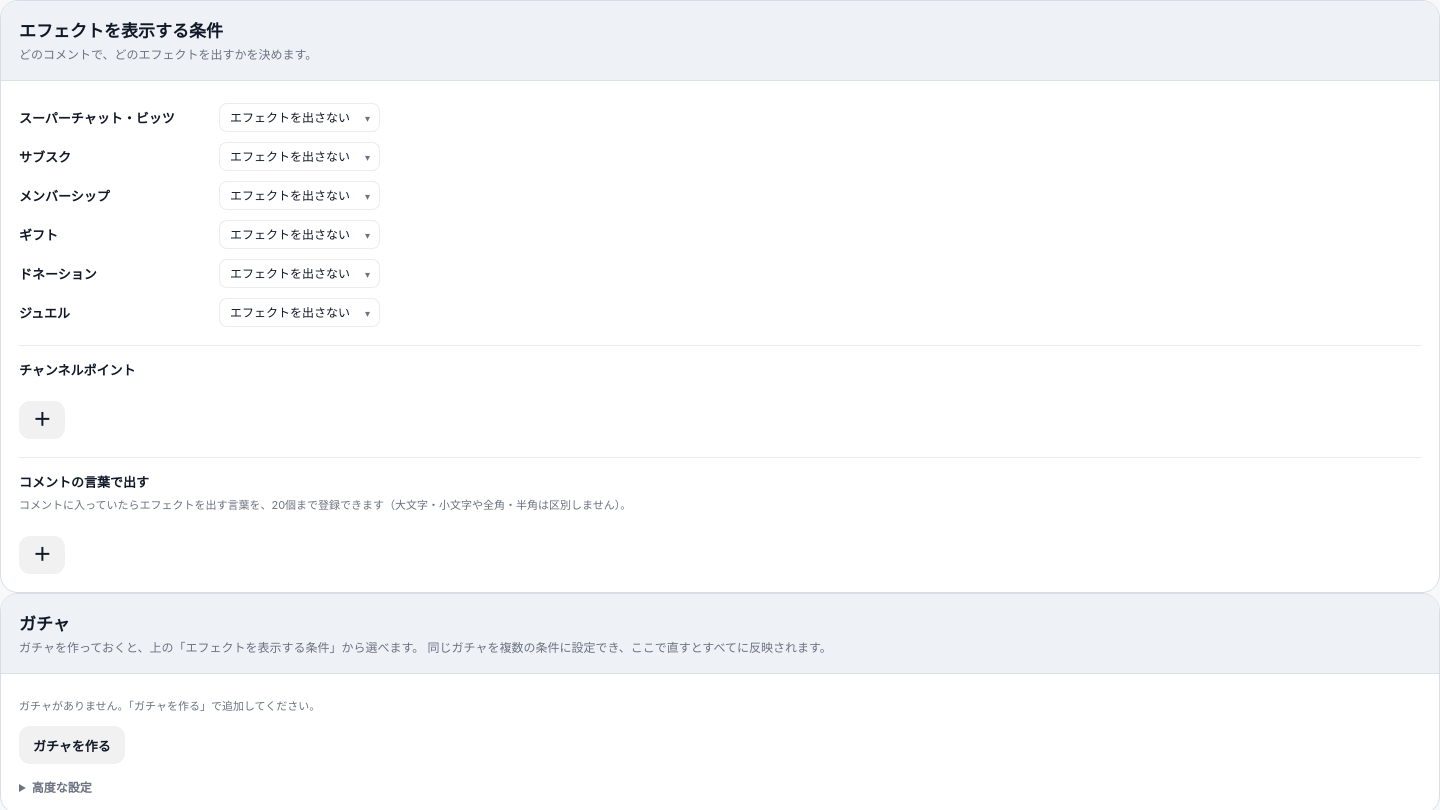
Scenario: GachaLibraryCard（063d） › ⚠ キーワード条件も列挙される（イベント条件だけを見ていない）
Click the button "ガチャを作る" at (72, 745), box top-left (19, 726), bottom-right (125, 764)
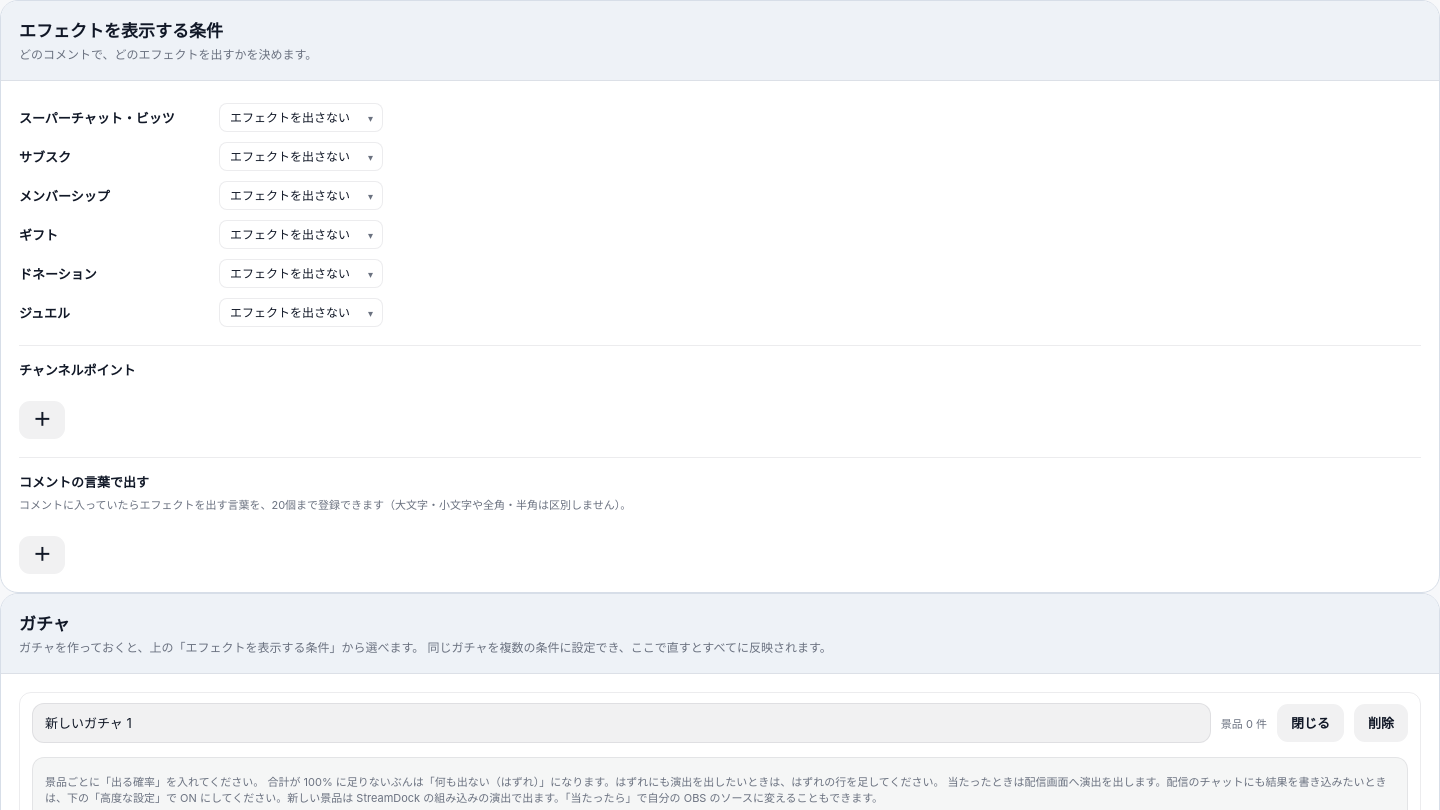
Click the button named "条件を追加" at (42, 554), box top-left (19, 536), bottom-right (65, 574)
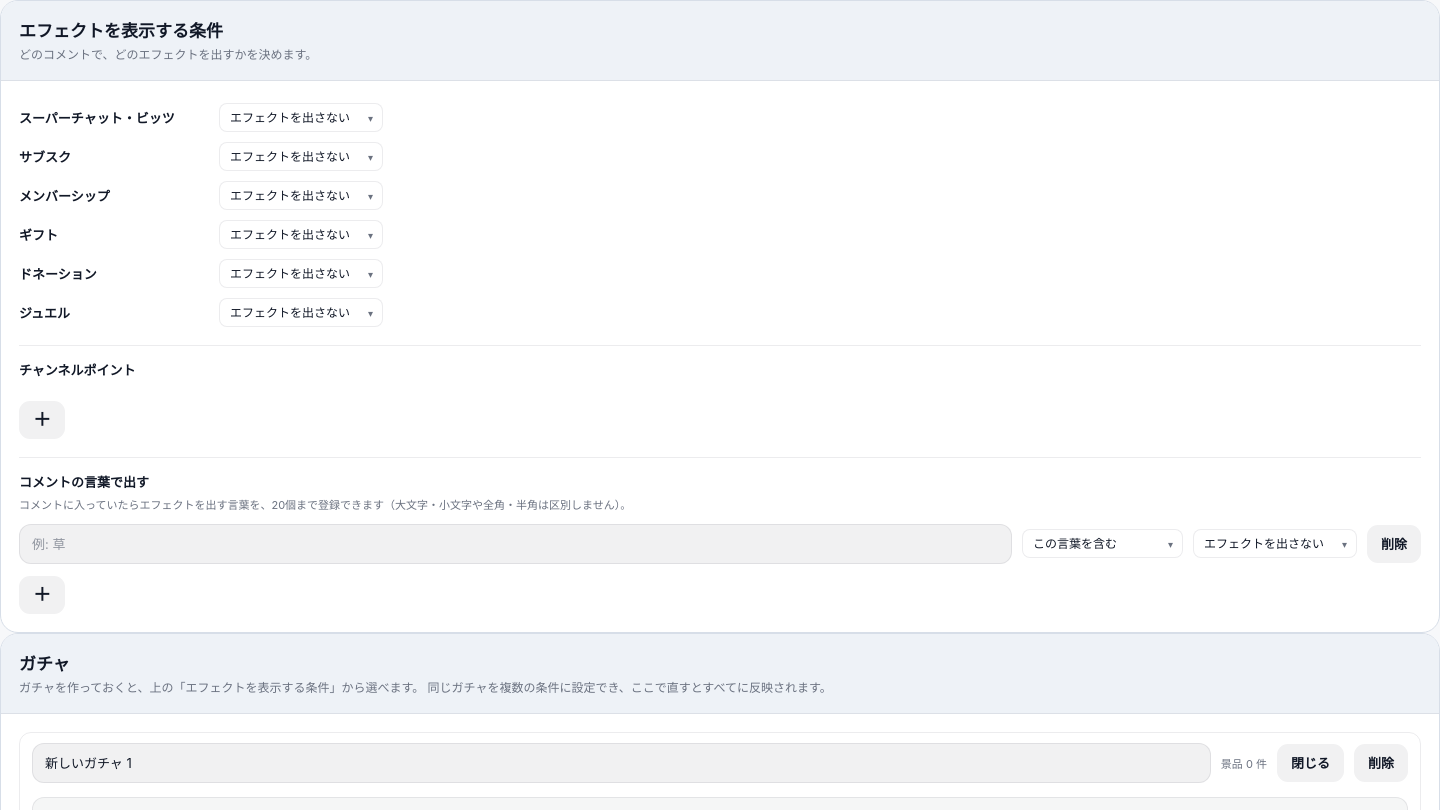
Type "ガチャ" into the field named "キーワード 1" at (516, 544), box top-left (19, 524), bottom-right (1012, 564)
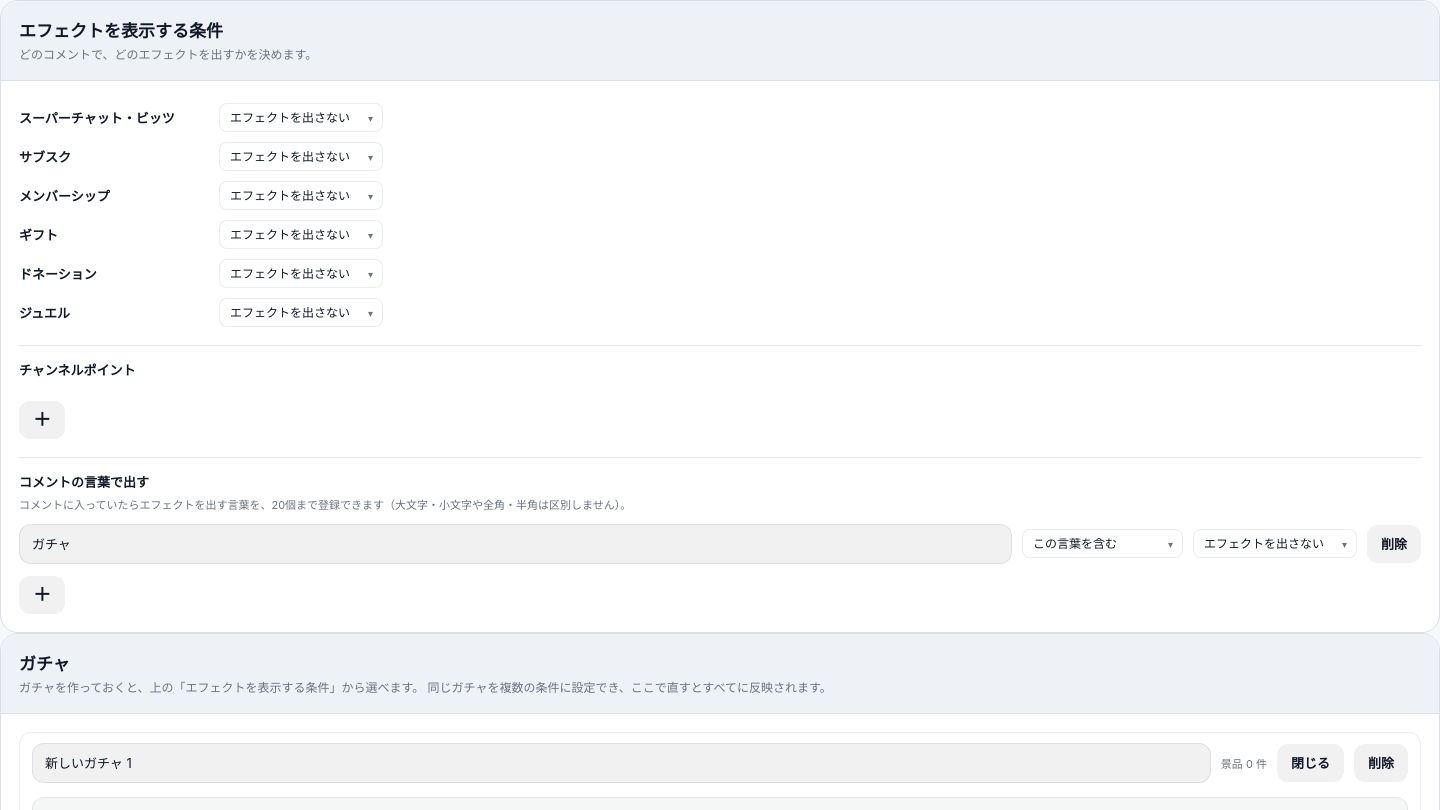
Select "ガチャ: 新しいガチャ 1" in the dropdown named "キーワード 1 のエフェクト" at (1275, 544), box top-left (1193, 529), bottom-right (1357, 558)
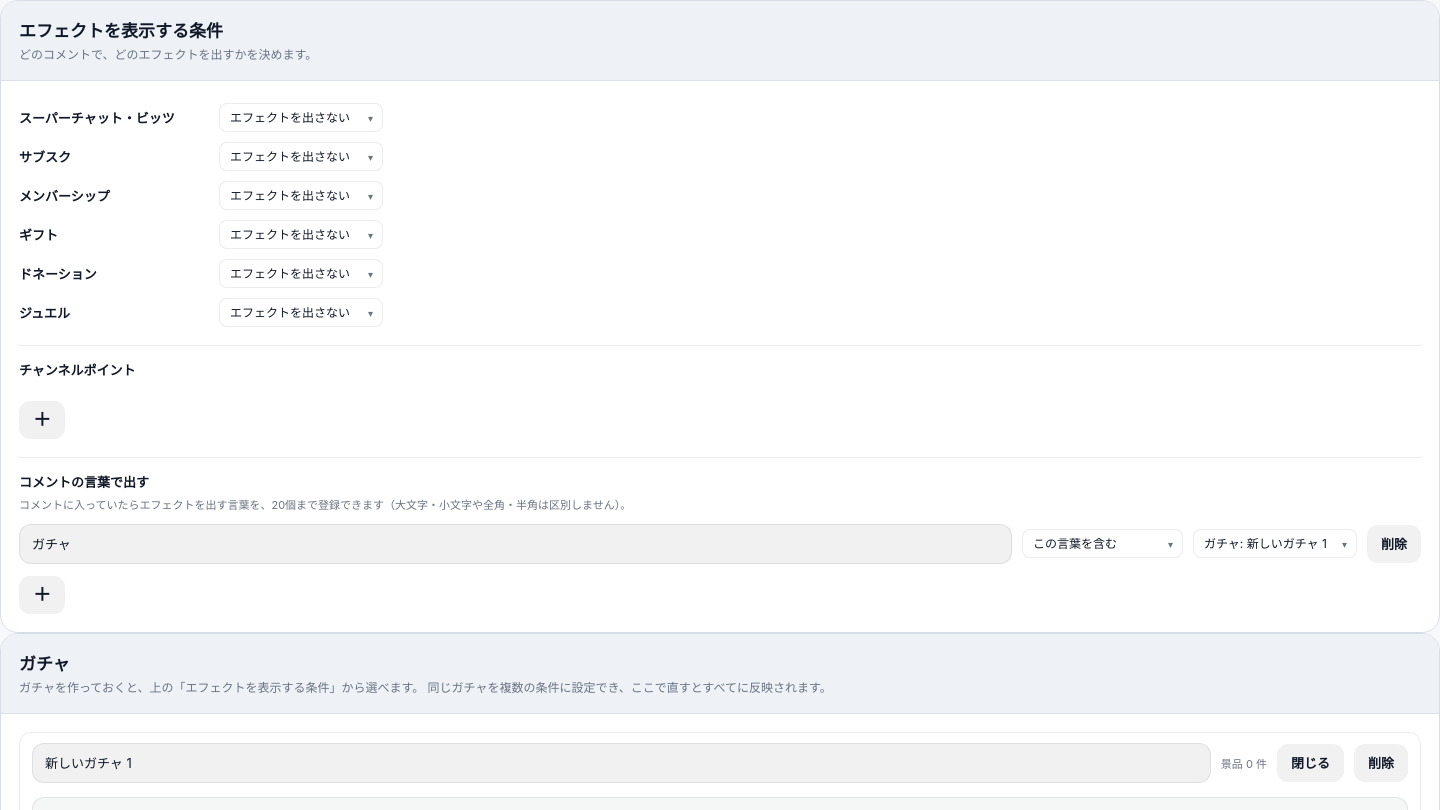
Click the button with aria-label "新しいガチャ 1 を削除" at (1381, 762), box top-left (1354, 744), bottom-right (1408, 782)
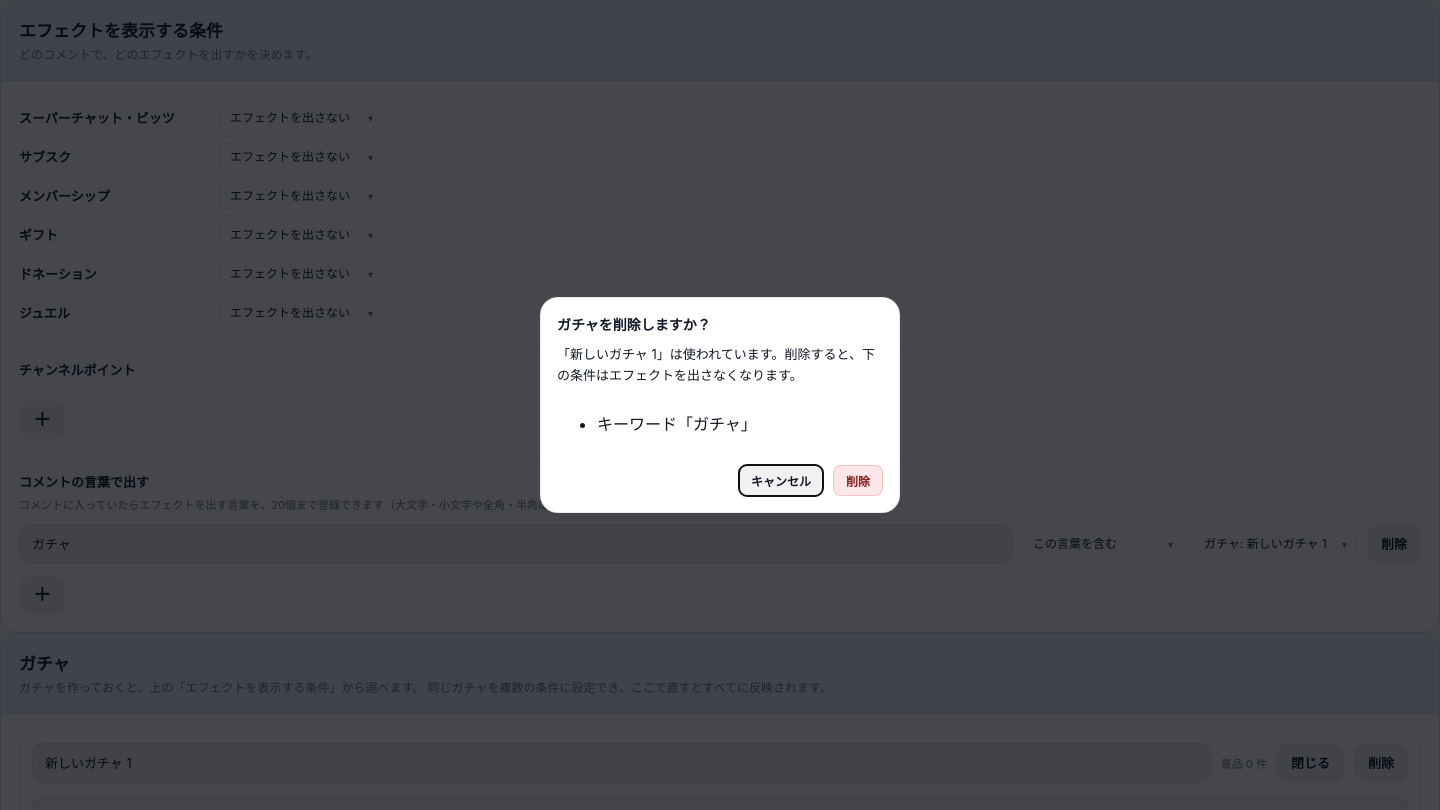
Now the list item "キーワード「ガチャ」" is shown, box top-left (597, 414), bottom-right (757, 434)
